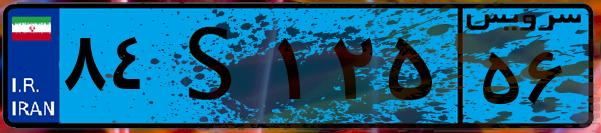1: (270, 28, 330, 110)
2: (330, 28, 385, 110)
4: (110, 28, 158, 98)
5: (385, 28, 445, 110), (475, 38, 525, 113)
6: (525, 38, 570, 115)
8: (57, 26, 110, 100)
S: (158, 12, 270, 120)
